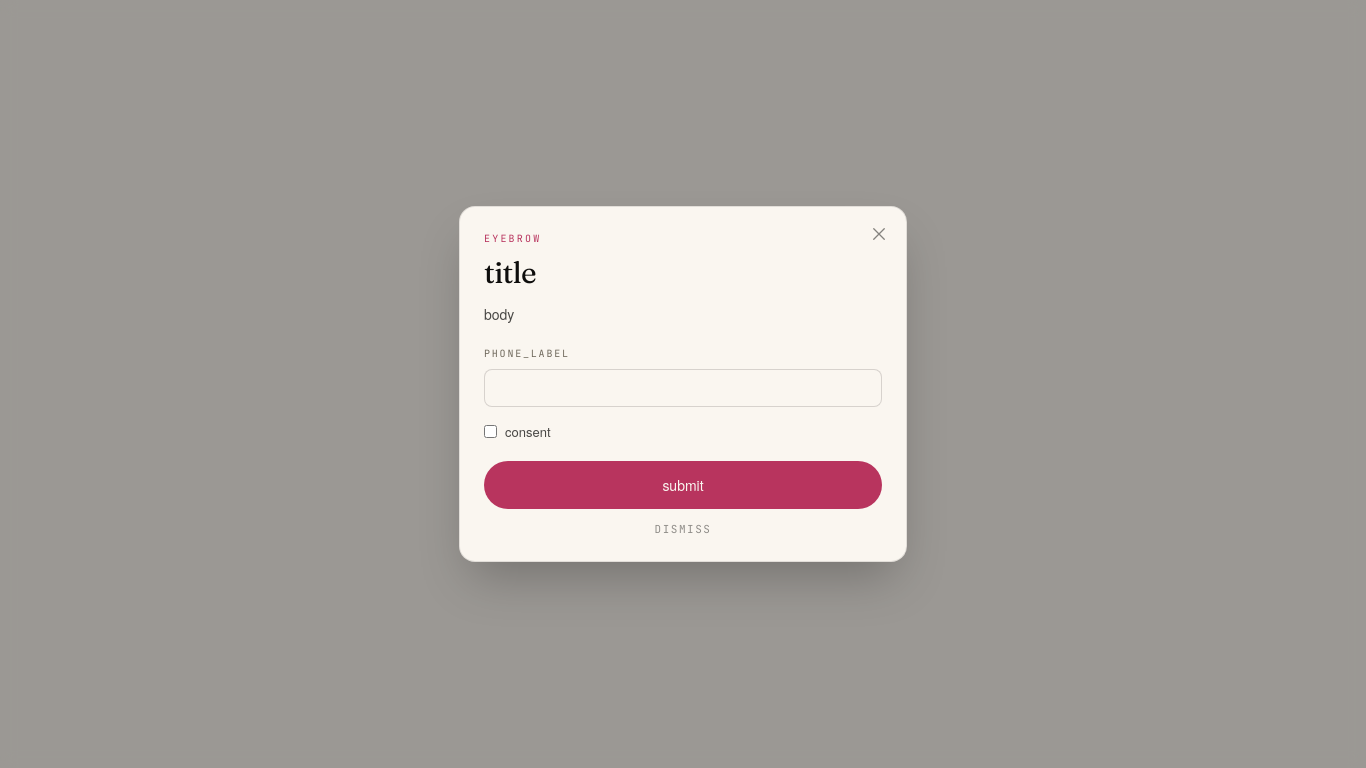
Test case: WelcomeOffer › says so when the number is refused
Expected: the dialog is shown, [459, 206, 907, 562]
Type "5165550100" into the field labelled "phone_label" at (683, 388), box [484, 369, 882, 407]
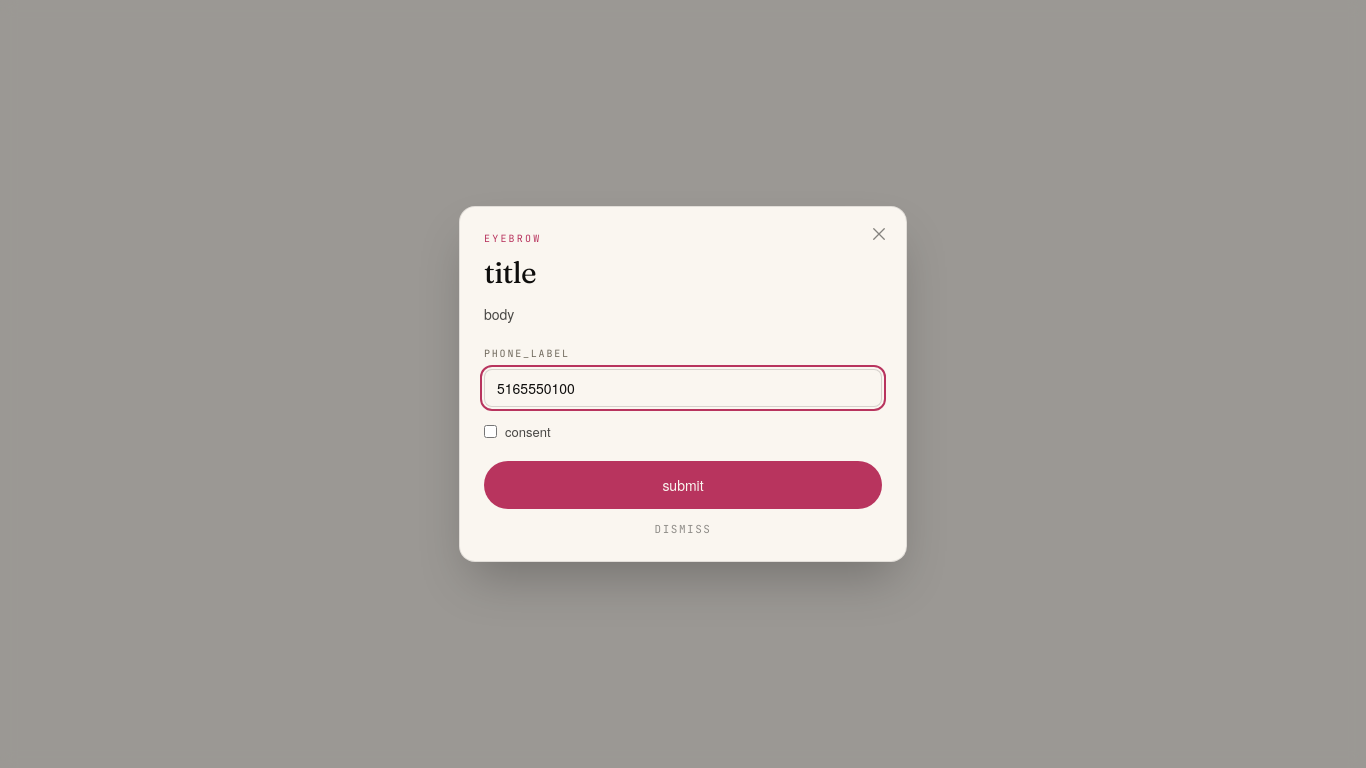
Click the checkbox at (490, 431), box [484, 425, 497, 438]
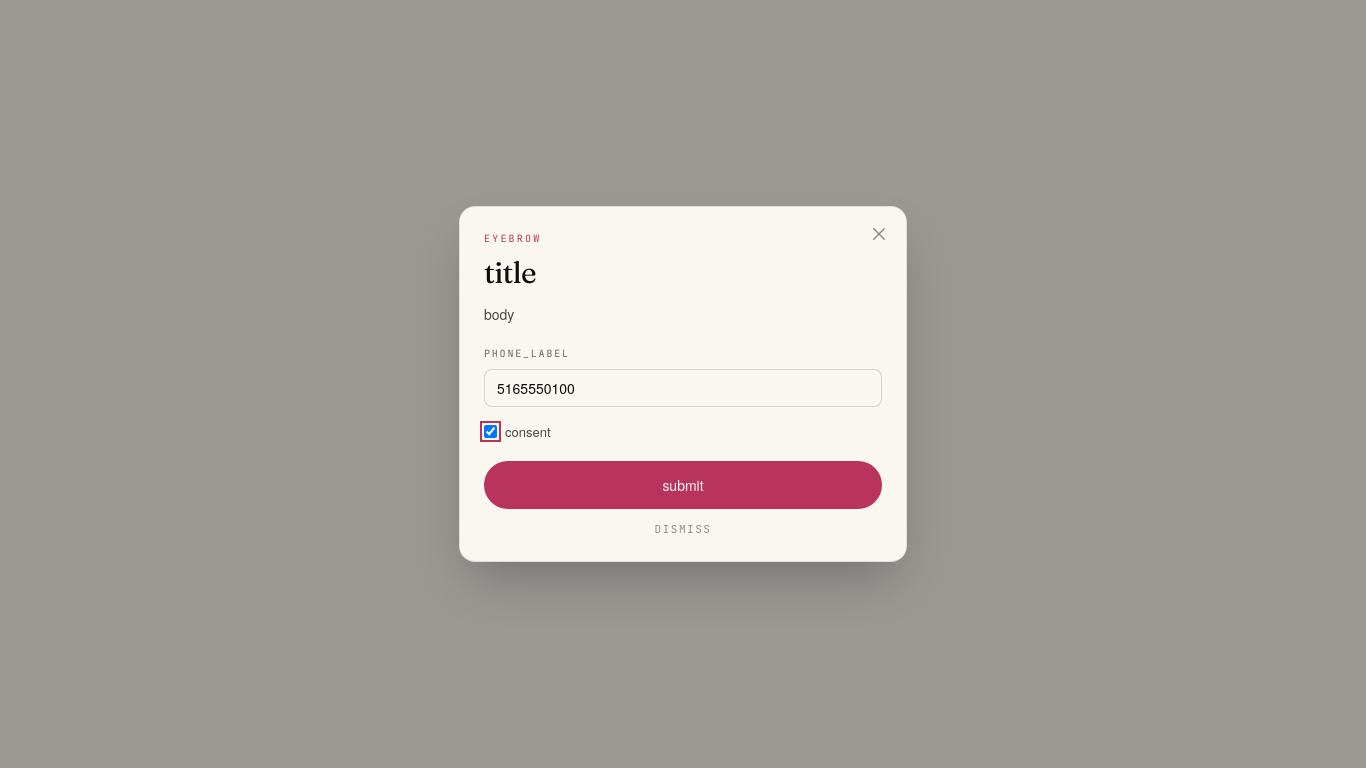
Click the button "submit" at (683, 485), box [484, 461, 882, 509]
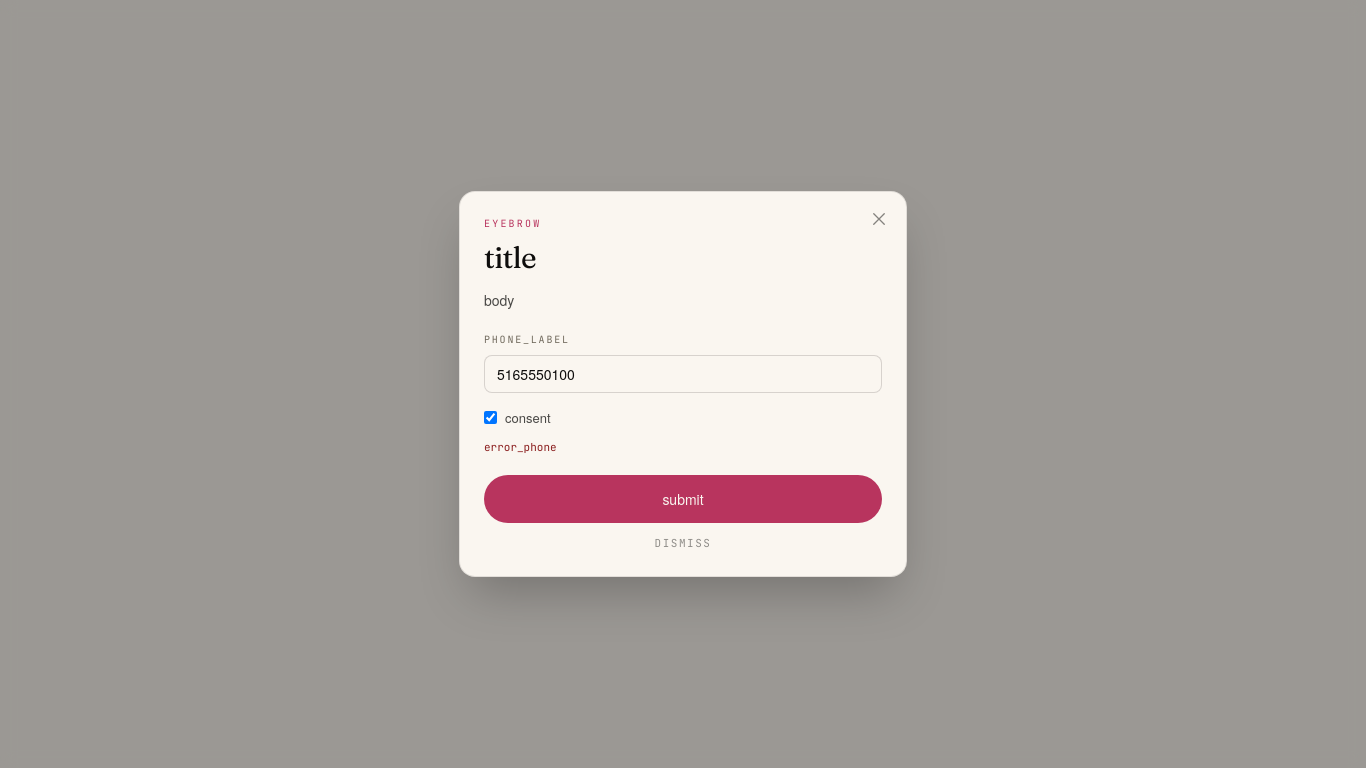
Now the message reads "error_phone", box [484, 440, 557, 454]
